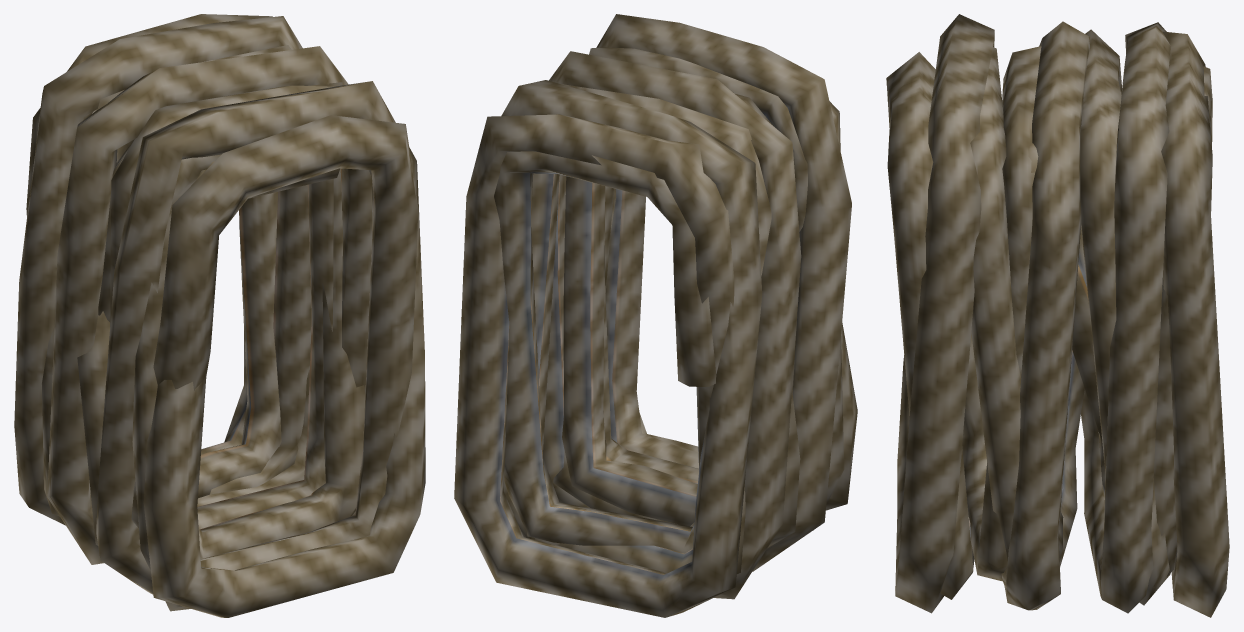
The model's file is SM_Rope-Wrap-MediumStraight.fbx.
The picture shows the model from 3 angles, left to right: view 1: azimuth 30°, elevation 25°; view 2: azimuth 150°, elevation 25°; view 3: azimuth 270°, elevation 25°; orthographic projection. The views are drawn at different scales.
Parts seen in each view (by area): view 1: SM_Rope-Wrap-MediumStraight_LOD0; view 2: SM_Rope-Wrap-MediumStraight_LOD0; view 3: SM_Rope-Wrap-MediumStraight_LOD0.
Part boxes in pixels (box(x1,y1,x2,y2)): SM_Rope-Wrap-MediumStraight_LOD0: box(14, 14, 425, 617); SM_Rope-Wrap-MediumStraight_LOD0: box(454, 14, 857, 617); SM_Rope-Wrap-MediumStraight_LOD0: box(886, 14, 1229, 617).
Bounding box in the file's own units: 20.46 × 19.78 × 33.84.
Materials: 1 (1 with a texture image).
